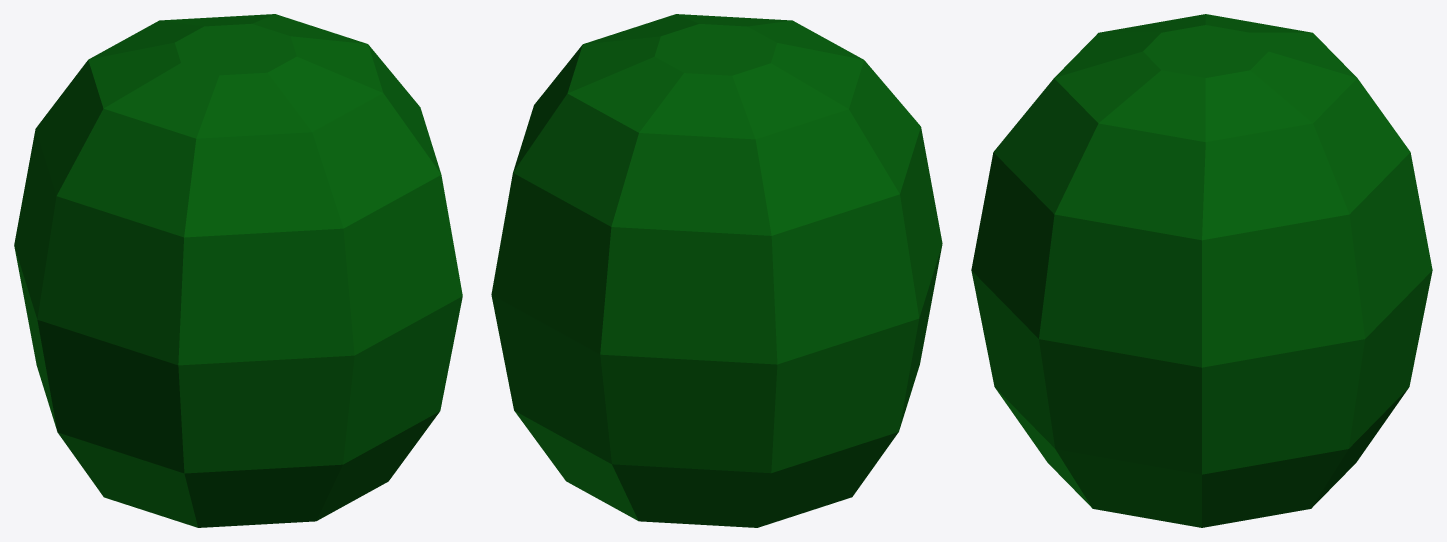
File: watermelon01.gltf
3 views of the same model, side by side, from view 1: azimuth 30°, elevation 25°; view 2: azimuth 150°, elevation 25°; view 3: azimuth 270°, elevation 25° (orthographic).
Visible parts, largest first — view 1: Cylinder; view 2: Cylinder; view 3: Cylinder.
Boxes of the visible parts, x1,y1,x2,y2 form: Cylinder: (14, 14, 462, 527); Cylinder: (491, 14, 942, 527); Cylinder: (971, 14, 1432, 527).
Size of the model in its own units: 0.1946 by 0.2047 by 0.1946.
Materials: 1 (1 with a texture image).
